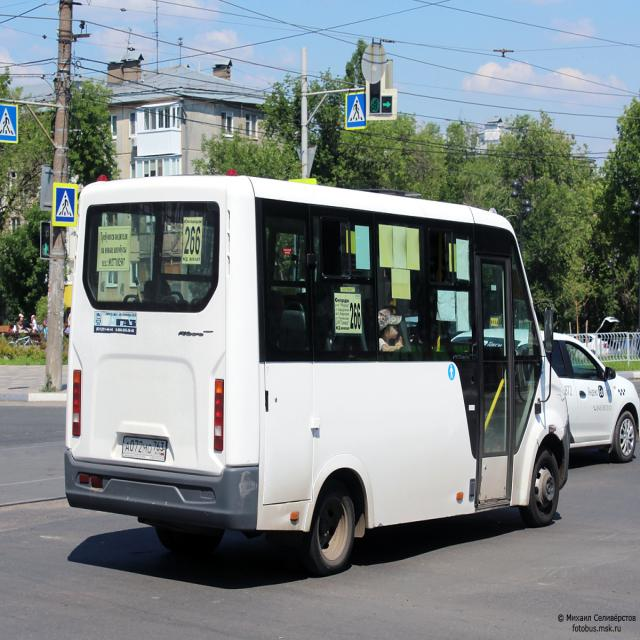number-of-bus: (185, 225, 203, 258), (351, 303, 362, 331)
